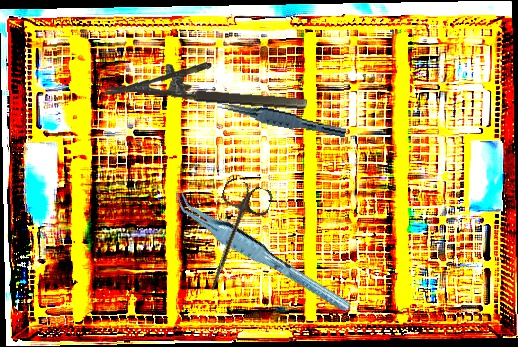Iris Scissors: (191, 176, 275, 299)
Needle Holder: (103, 53, 310, 113)
Tissue Forceps: (166, 172, 354, 333), (215, 98, 348, 139)
